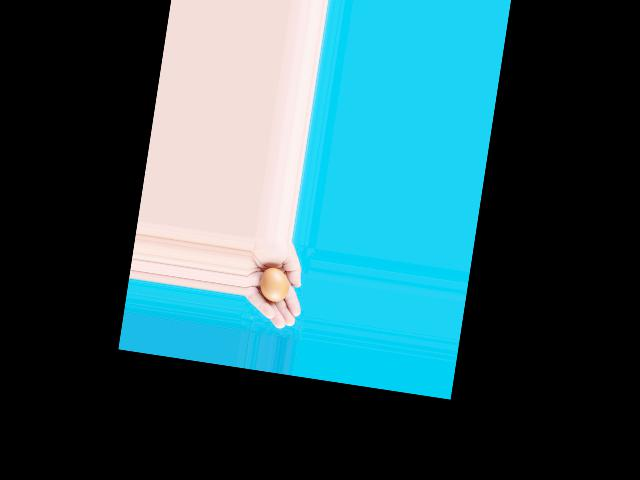egg: (258, 266, 291, 304)
